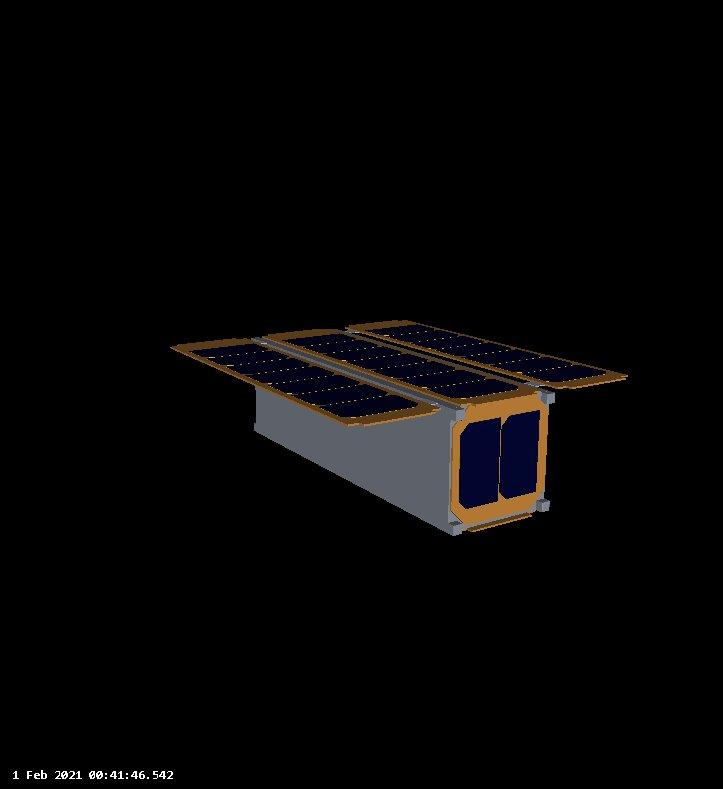body: (249, 328, 560, 539)
solar: (168, 336, 446, 430), (260, 326, 550, 407), (345, 317, 632, 391), (456, 408, 544, 513)
